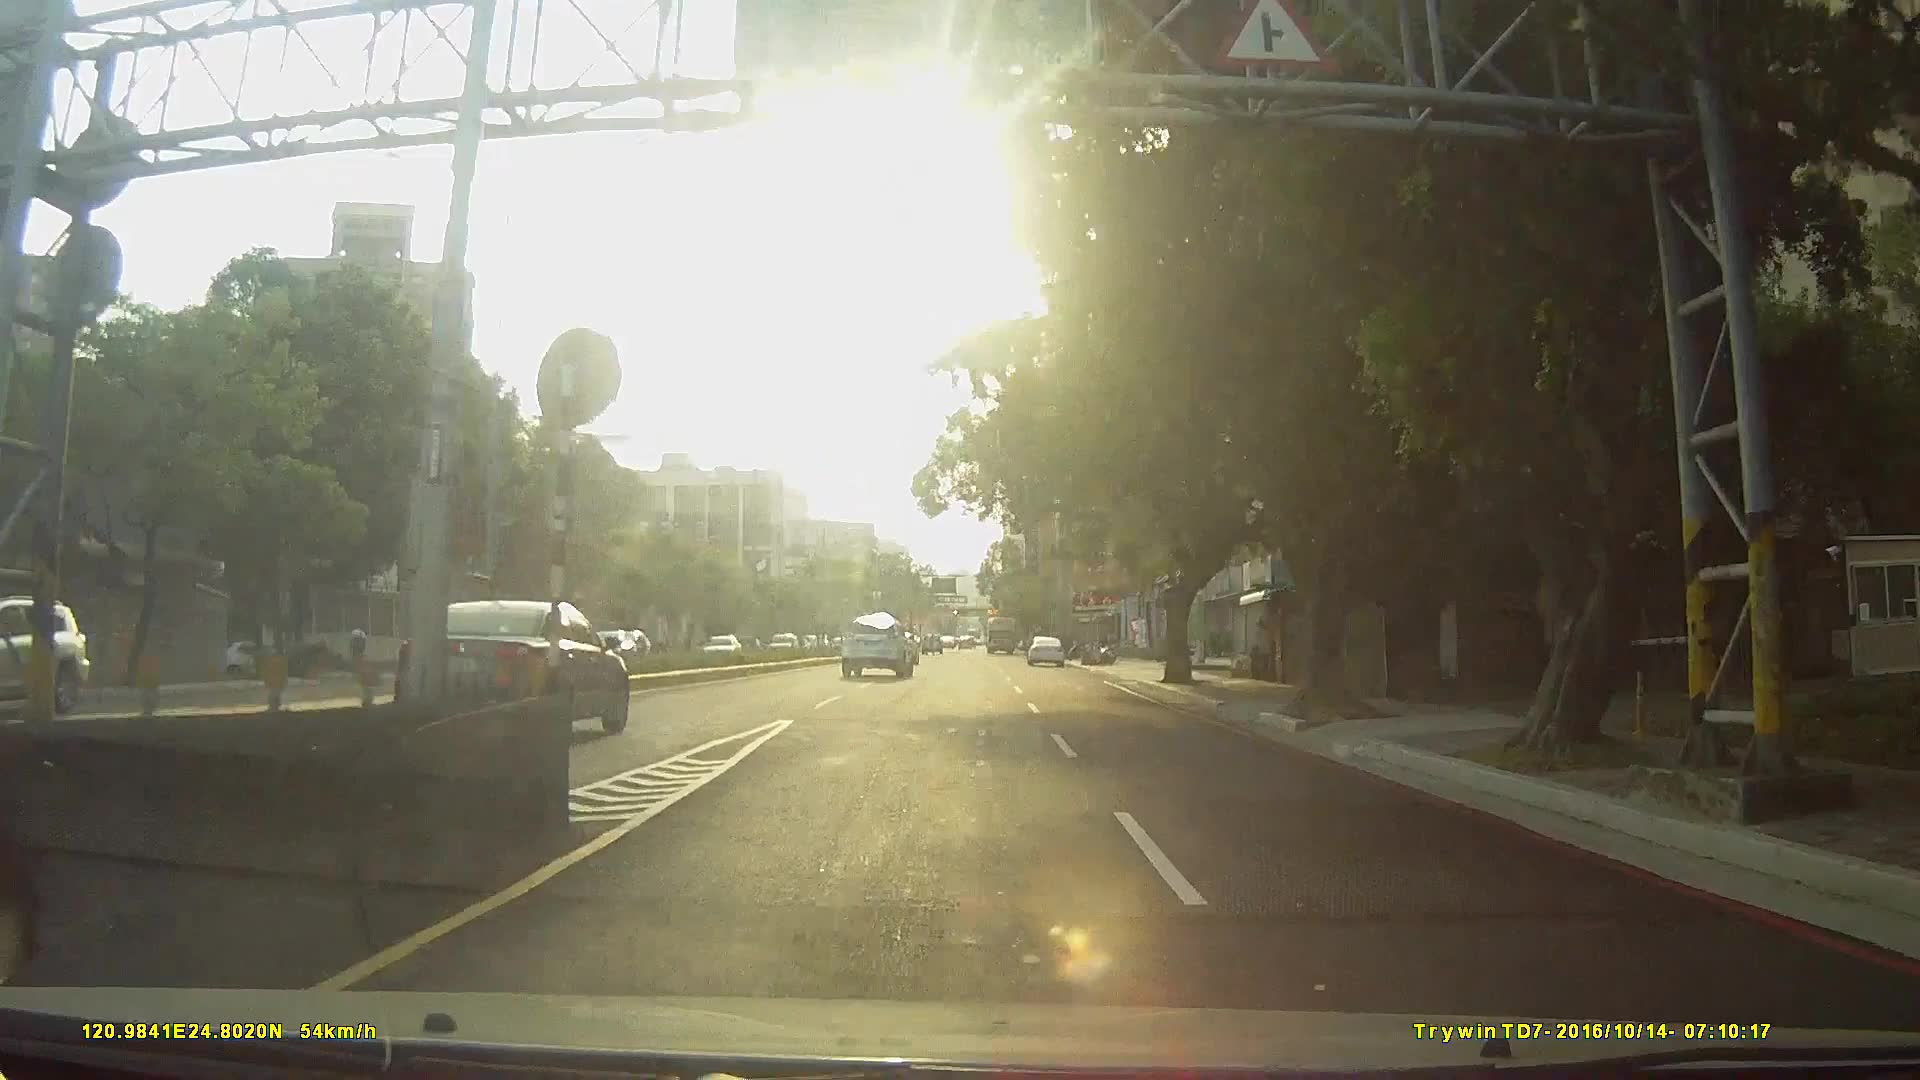pedestrian: (349, 623, 373, 677)
vehicle: (394, 595, 631, 737), (838, 609, 915, 676), (1025, 632, 1066, 667), (983, 612, 1017, 654)
